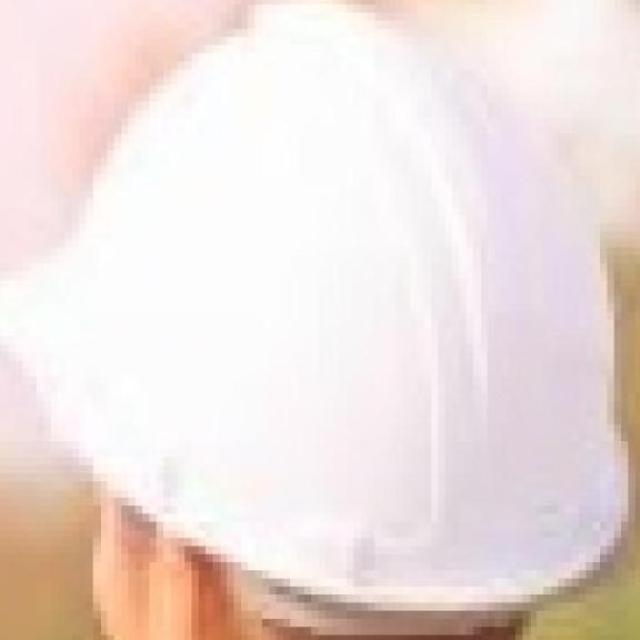white helmet: (15, 4, 630, 602)
